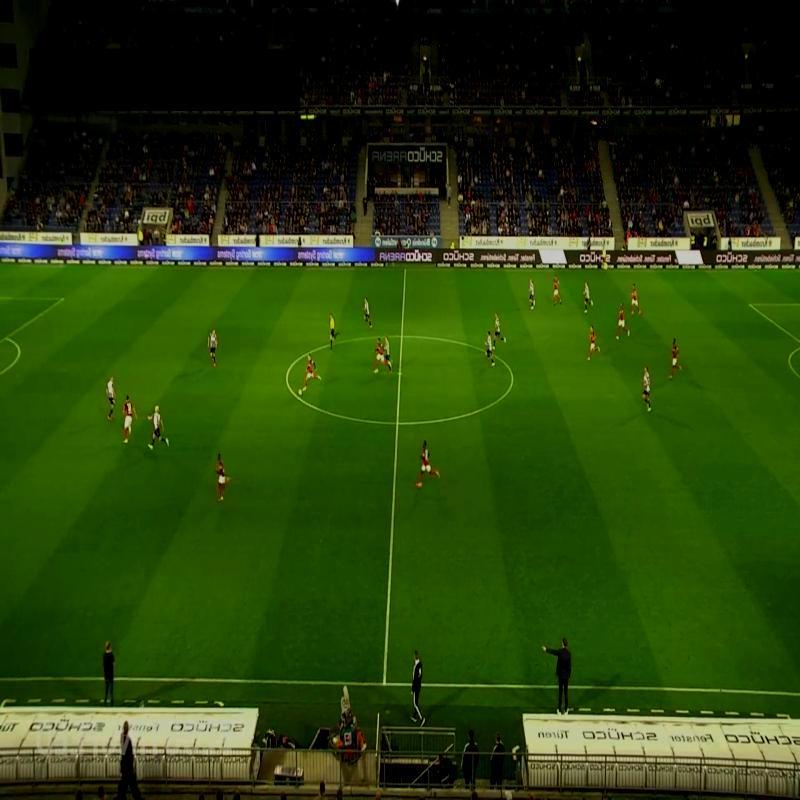10: (0, 334, 10, 344)
13: (398, 262, 412, 276)
14: (392, 328, 410, 344)
15: (390, 414, 406, 431)
16: (374, 672, 392, 692)
9: (55, 291, 72, 306), (743, 298, 757, 312)
c: (503, 366, 522, 387), (282, 369, 295, 383)
